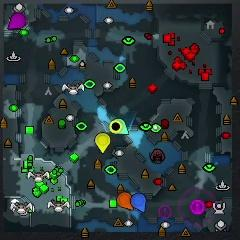Other: (190, 200, 205, 215), (158, 205, 171, 219)
p1: (130, 193, 146, 213)
p2: (114, 118, 129, 134)
p3: (8, 12, 26, 29)
p4: (95, 132, 110, 153)
p4Clone: (109, 120, 122, 133)
p5: (117, 192, 134, 211)
